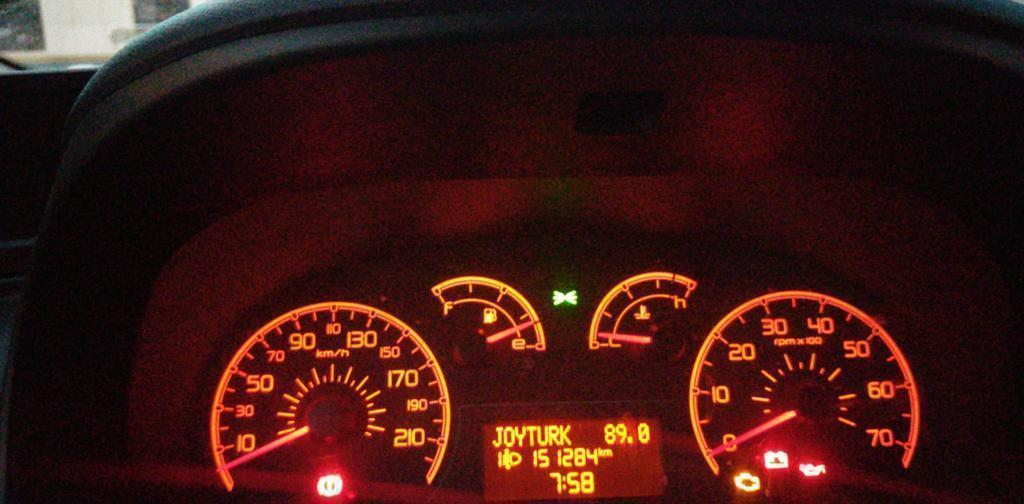,: (627, 435, 634, 444)
0: (636, 421, 651, 444)
1: (529, 448, 538, 467), (495, 450, 502, 468), (555, 447, 561, 466)
2: (562, 447, 573, 467)
4: (586, 448, 598, 466)
5: (567, 470, 580, 494), (537, 448, 550, 467)
7: (547, 471, 562, 494)
8: (580, 470, 595, 494), (603, 422, 615, 444), (573, 446, 585, 467)
9: (615, 423, 627, 444)
X: (559, 423, 572, 446), (491, 426, 503, 448), (536, 424, 548, 445), (503, 425, 514, 447), (525, 425, 536, 446), (548, 425, 559, 446), (515, 425, 525, 448), (603, 448, 613, 457), (561, 475, 567, 490), (597, 446, 603, 457)
odometer: (477, 412, 668, 504)
